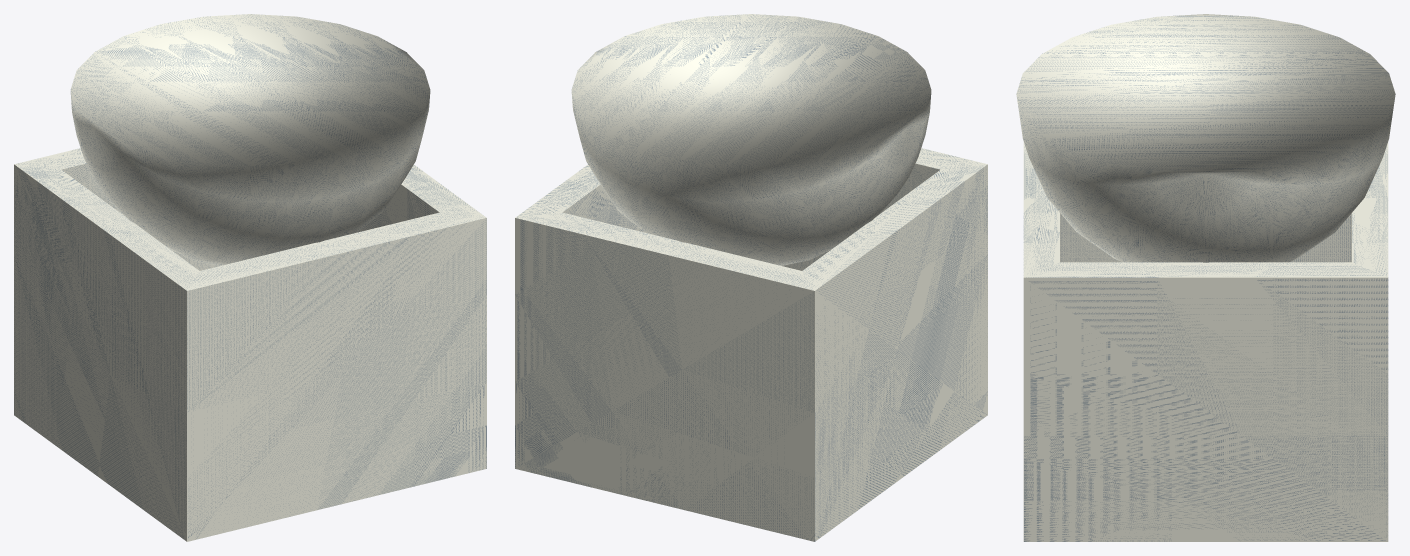
3 renders of one model, left to right at view 1: azimuth 30°, elevation 25°; view 2: azimuth 150°, elevation 25°; view 3: azimuth 270°, elevation 25°, orthographic. The views are drawn at different scales.
Visible parts, largest first — view 1: Model; view 2: Model; view 3: Model.
Part boxes in pixels (x1,y1,x2,y2): Model: (14,14,486,541); Model: (515,14,987,541); Model: (1016,14,1395,541).
Bounding box in the file's own units: 5.2 × 5.61 × 5.2.
